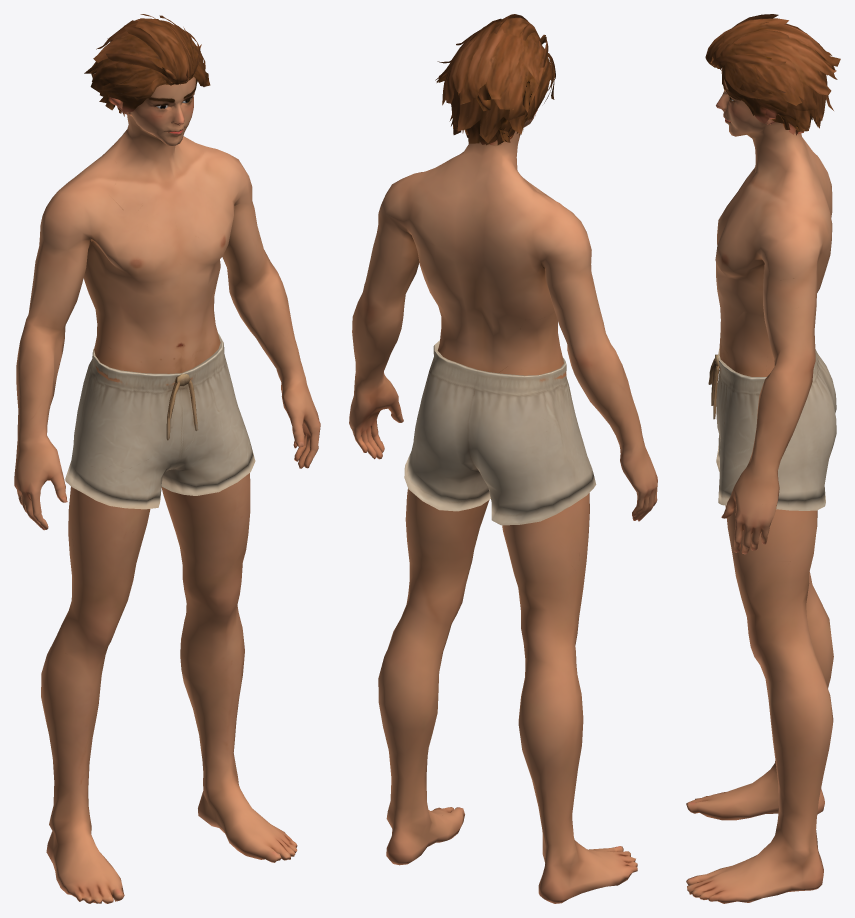
File: meshy-basis.glb
3 views of the same model, side by side, from view 1: azimuth 30°, elevation 25°; view 2: azimuth 150°, elevation 25°; view 3: azimuth 270°, elevation 25° (orthographic).
Parts seen in each view (by area): view 1: geometry_0; view 2: geometry_0; view 3: geometry_0.
Part boxes in pixels (bbox=[...]): geometry_0: bbox=[14, 14, 320, 903]; geometry_0: bbox=[349, 14, 657, 903]; geometry_0: bbox=[686, 14, 840, 903].
Bounding box in the file's own units: 0.3725 × 1 × 0.1691.
1 material, 1 textured.
